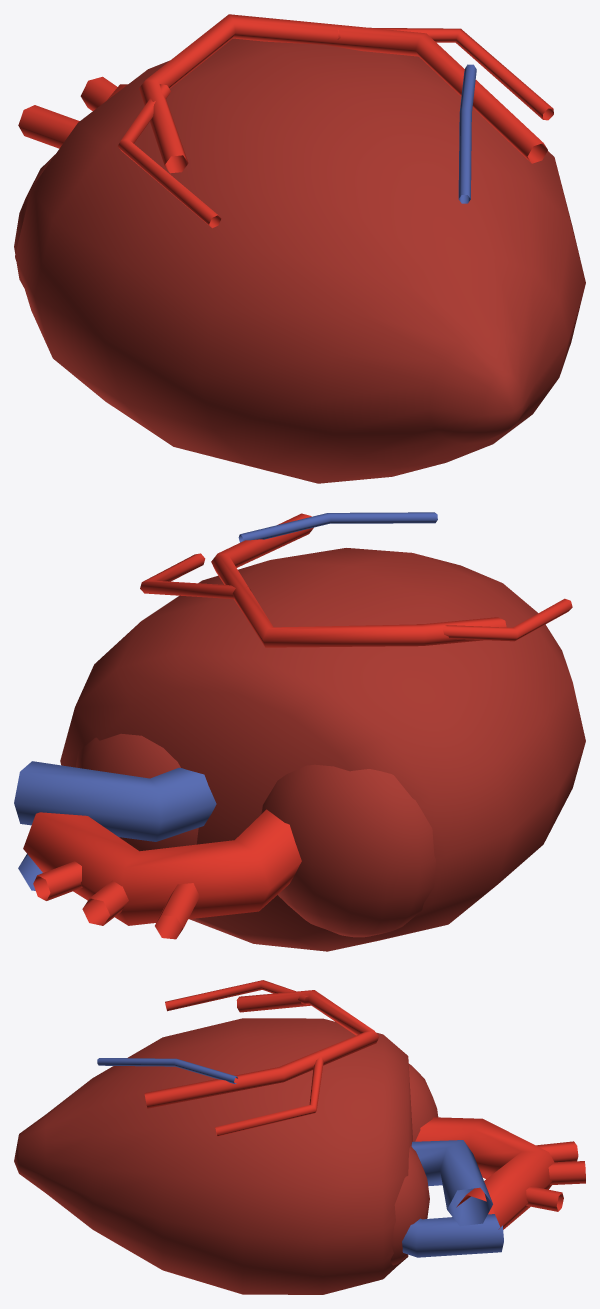
The model's file is lab-heart-normal.glb.
The picture shows the model from 3 angles, top to bottom: view 1: azimuth 30°, elevation 25°; view 2: azimuth 150°, elevation 25°; view 3: azimuth 270°, elevation 25°; orthographic projection. The views are drawn at different scales.
Visible parts, largest first — view 1: part-myocardium, part-coronary-main, part-coronary-right, part-coronary-left, part-coronary-blue, part-aorta-branch-1, part-aorta-branch-2; view 2: part-myocardium, part-la, part-aorta, part-pulmonary-trunk, part-coronary-main, part-ra, part-coronary-blue, part-coronary-right, part-coronary-left, part-aorta-branch-1, part-aorta-branch-3, part-aorta-branch-2; view 3: part-myocardium, part-aorta, part-coronary-main, part-pulmonary-trunk, part-vena-cava, part-ra, part-coronary-right, part-coronary-left, part-la, part-coronary-blue, part-aorta-branch-2, part-aorta-branch-3 (+1 smaller).
Boxes of the visible parts, left/top/right/bottom form: part-myocardium: left=15, top=38, right=585, bottom=483; part-coronary-main: left=139, top=14, right=547, bottom=173; part-coronary-right: left=337, top=27, right=553, bottom=120; part-coronary-left: left=117, top=84, right=221, bottom=228; part-coronary-blue: left=458, top=64, right=476, bottom=203; part-aorta-branch-1: left=18, top=105, right=79, bottom=148; part-aorta-branch-2: left=80, top=76, right=117, bottom=110; part-myocardium: left=60, top=548, right=585, bottom=951; part-la: left=261, top=764, right=435, bottom=937; part-aorta: left=23, top=809, right=301, bottom=925; part-pulmonary-trunk: left=14, top=761, right=216, bottom=841; part-coronary-main: left=211, top=513, right=506, bottom=647; part-ra: left=75, top=733, right=198, bottom=851; part-coronary-blue: left=238, top=512, right=437, bottom=542; part-coronary-right: left=140, top=553, right=250, bottom=598; part-coronary-left: left=417, top=598, right=572, bottom=641; part-aorta-branch-1: left=155, top=883, right=199, bottom=939; part-aorta-branch-3: left=33, top=861, right=82, bottom=900; part-aorta-branch-2: left=82, top=880, right=128, bottom=925; part-myocardium: left=14, top=1018, right=412, bottom=1294; part-aorta: left=415, top=1117, right=554, bottom=1229; part-coronary-main: left=144, top=990, right=379, bottom=1108; part-pulmonary-trunk: left=411, top=1140, right=492, bottom=1226; part-vena-cava: left=402, top=1214, right=503, bottom=1257; part-ra: left=390, top=1146, right=429, bottom=1265; part-coronary-right: left=215, top=1051, right=323, bottom=1136; part-coronary-left: left=165, top=980, right=309, bottom=1011; part-la: left=408, top=1063, right=438, bottom=1141; part-coronary-blue: left=97, top=1058, right=237, bottom=1083; part-aorta-branch-2: left=548, top=1161, right=585, bottom=1185; part-aorta-branch-3: left=526, top=1186, right=563, bottom=1211.
Bounding box in the file's own units: 10.9 × 8.02 × 17.12.
